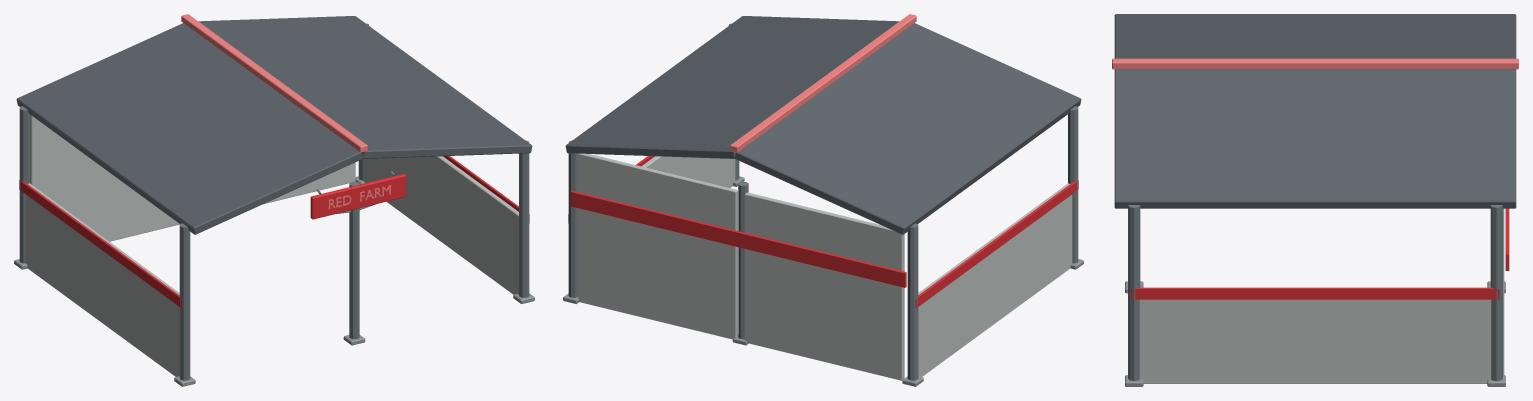
Rendered from RedGarage.glb.
3 views of the same model, side by side, from view 1: azimuth 30°, elevation 25°; view 2: azimuth 150°, elevation 25°; view 3: azimuth 270°, elevation 25° (orthographic). The views are drawn at different scales.
Parts seen in each view (by area): view 1: FTF_Building_FarmMachineGarage_Red_TwoBay_12x10m_Mesh; view 2: FTF_Building_FarmMachineGarage_Red_TwoBay_12x10m_Mesh; view 3: FTF_Building_FarmMachineGarage_Red_TwoBay_12x10m_Mesh.
Boxes of the visible parts, x1=… form: FTF_Building_FarmMachineGarage_Red_TwoBay_12x10m_Mesh: x1=14, y1=14, x2=534, y2=386; FTF_Building_FarmMachineGarage_Red_TwoBay_12x10m_Mesh: x1=563, y1=14, x2=1083, y2=386; FTF_Building_FarmMachineGarage_Red_TwoBay_12x10m_Mesh: x1=1112, y1=14, x2=1518, y2=386.
Size of the model in its own units: 11.98 by 6.56 by 10.55.
